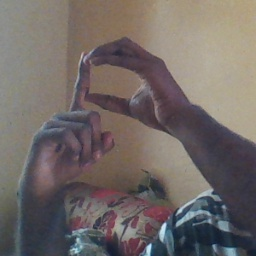P: (31, 34, 177, 172)
